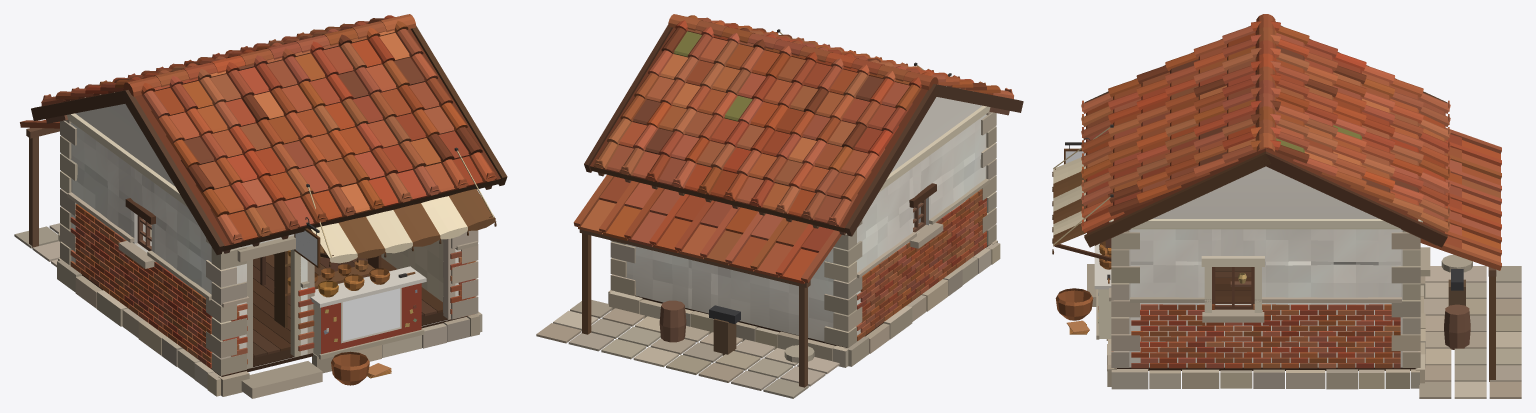
Rendered from artisan_2_1.glb.
The picture shows the model from 3 angles, left to right: view 1: azimuth 30°, elevation 25°; view 2: azimuth 150°, elevation 25°; view 3: azimuth 270°, elevation 25°; orthographic projection. The views are drawn at different scales.
Visible parts, largest first — view 1: House, Walls, Rooms; view 2: House, Walls; view 3: House, Walls, Rooms.
Boxes of the visible parts, bbox=[...] form: House: bbox=[14, 14, 507, 398]; Walls: bbox=[70, 104, 460, 367]; Rooms: bbox=[150, 224, 443, 357]; House: bbox=[536, 14, 1023, 398]; Walls: bbox=[614, 97, 986, 341]; House: bbox=[1052, 14, 1521, 398]; Walls: bbox=[1114, 166, 1417, 367]; Rooms: bbox=[1215, 267, 1251, 303].
Bounding box in the file's own units: 4.28 × 3.48 × 6.01.
7 materials, 7 textured.
